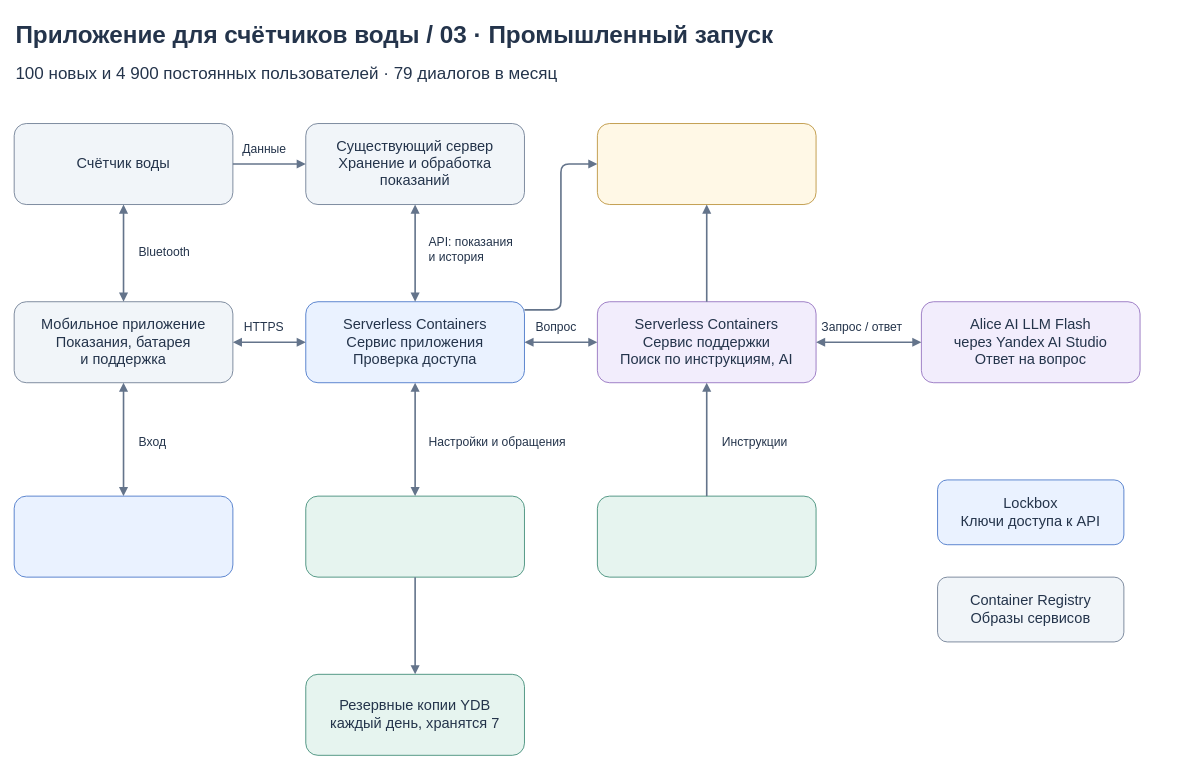
Some shapes in this 1195 by 770 pixel diagram are drawn without their labels. Here are the shapes that lost their labels. From the top down, the centre of each, then its label:
At point 706,164: "Cloud Logging / Monium Журналы, метрики и ошибки".
At point 123,536: "Яндекс ID (OAuth) Вход пользователя".
At point 414,536: "YDB Serverless Настройки пользователей Обращения в поддержку".
At point 706,536: "Object Storage Инструкции".
